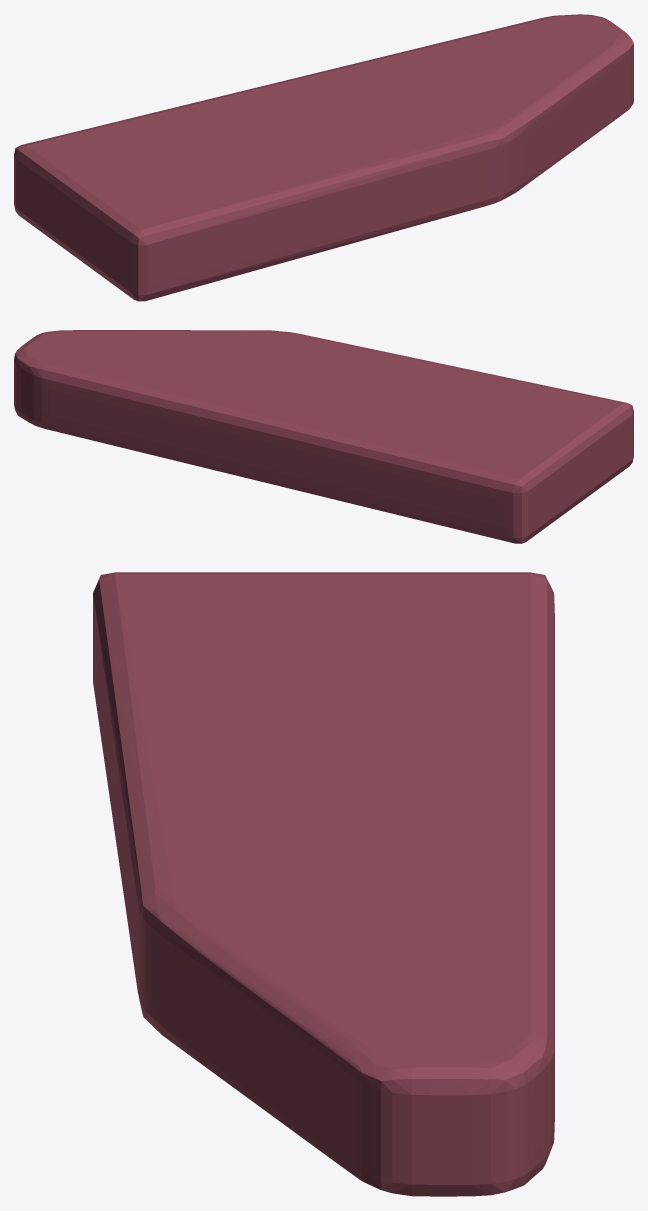
File: left_ankle_link_part_13.obj
3 renders of one model, top to bottom at view 1: azimuth 30°, elevation 25°; view 2: azimuth 150°, elevation 25°; view 3: azimuth 270°, elevation 25°, orthographic. The views are drawn at different scales.
Bounding box in the file's own units: 0.0764 × 0.00887 × 0.0292.
